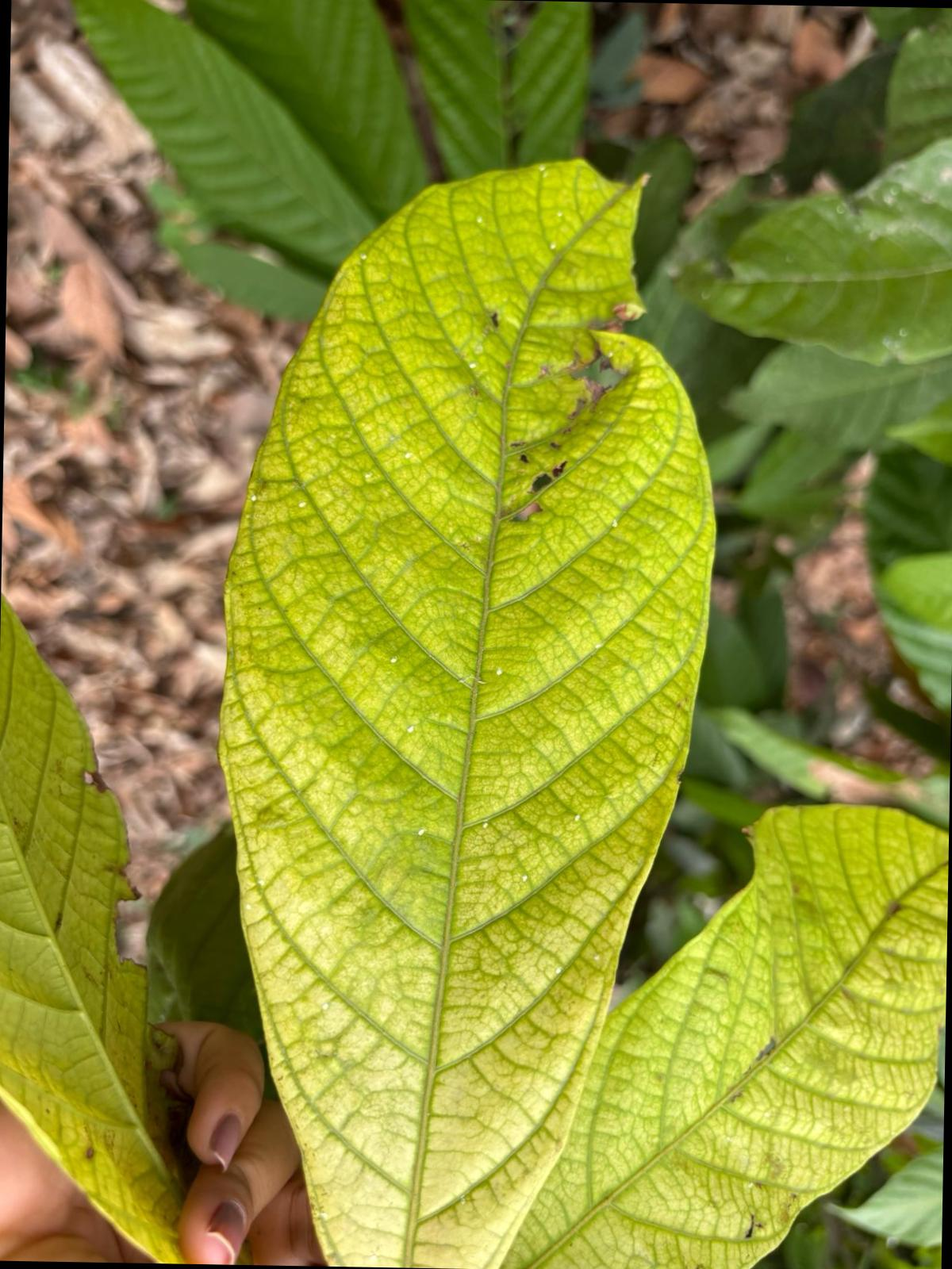Nitrogeno: (220, 162, 712, 1269)
